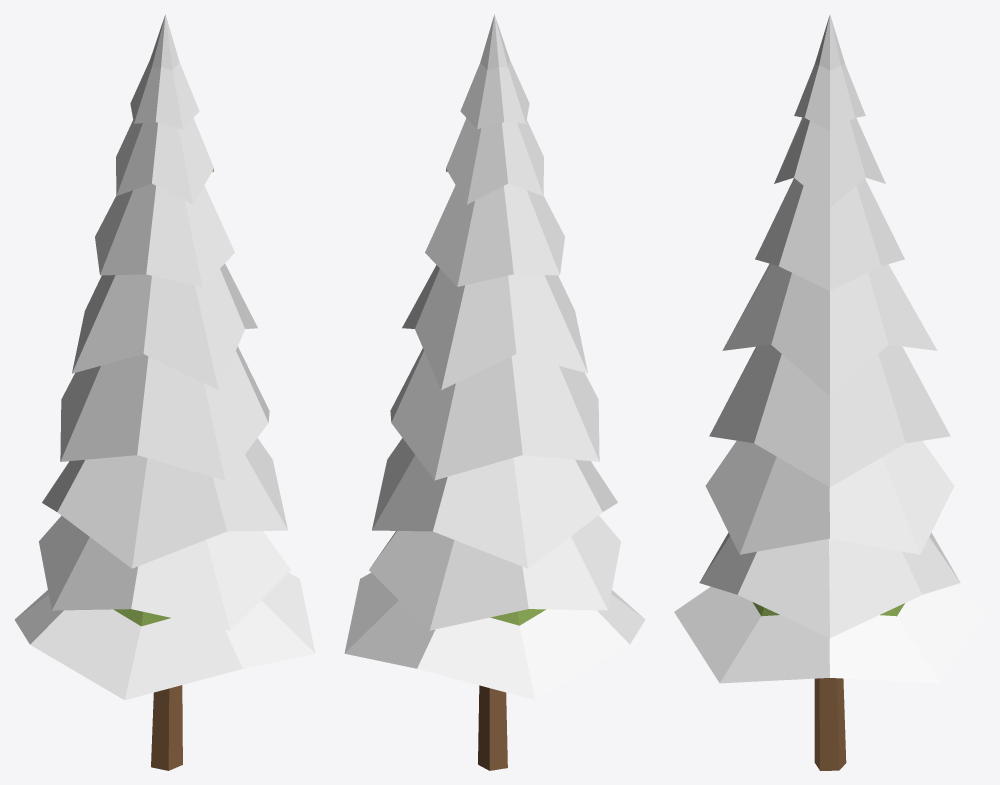
File: Pine_Tree_l_Snow_02.fbx
3 renders of one model, left to right at view 1: azimuth 30°, elevation 25°; view 2: azimuth 150°, elevation 25°; view 3: azimuth 270°, elevation 25°, orthographic.
Parts seen in each view (by area): view 1: Pine_Tree_l_Snow_02; view 2: Pine_Tree_l_Snow_02; view 3: Pine_Tree_l_Snow_02.
Boxes of the visible parts, x1,y1,x2,y2 form: Pine_Tree_l_Snow_02: (14,14,315,770); Pine_Tree_l_Snow_02: (344,14,645,770); Pine_Tree_l_Snow_02: (674,15,985,770).
Size of the model in its own units: 666 by 1768 by 666.
